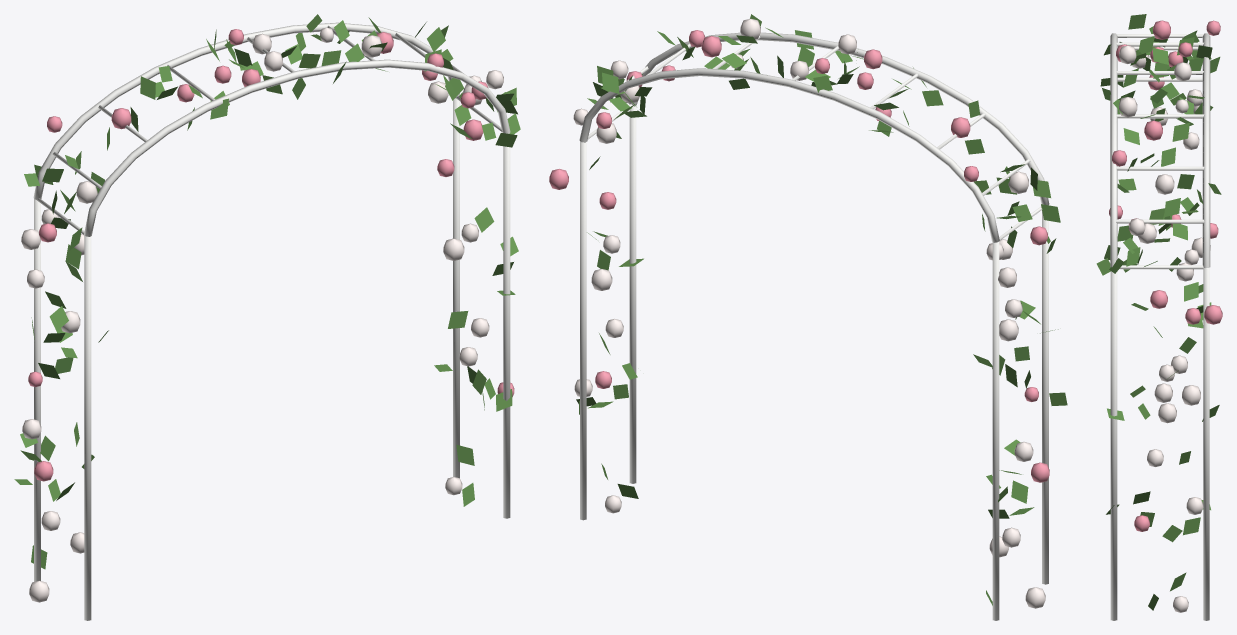
File: rose_arch.glb
The picture shows the model from 3 angles, left to right: view 1: azimuth 30°, elevation 25°; view 2: azimuth 150°, elevation 25°; view 3: azimuth 270°, elevation 25°; orthographic projection. The views are drawn at different scales.
Visible parts, largest first — view 1: rose_arch; view 2: rose_arch; view 3: rose_arch.
Boxes of the visible parts, x1,y1,x2,y2 form: rose_arch: [14, 14, 520, 620]; rose_arch: [549, 14, 1067, 620]; rose_arch: [1096, 14, 1222, 620].
Size of the model in its own units: 2.74 by 2.83 by 0.6811.
